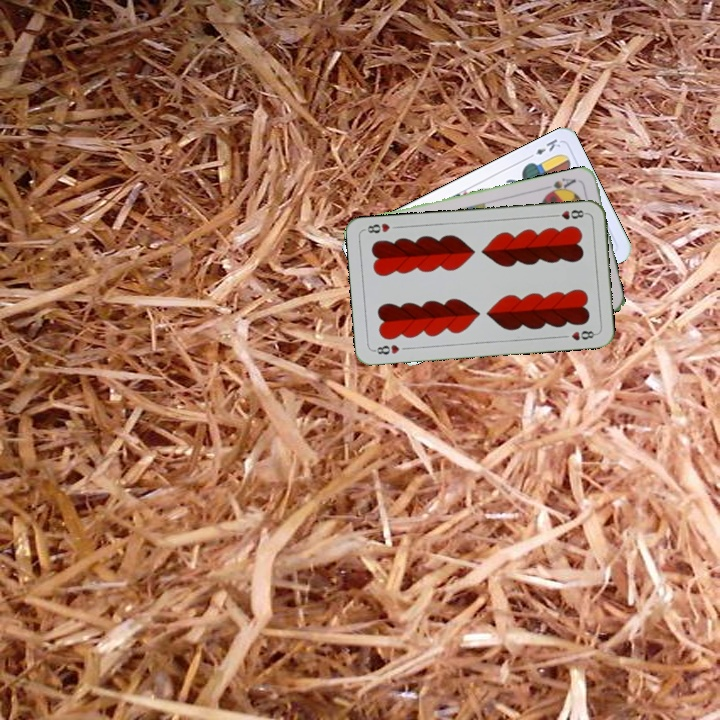EK: (524, 135, 563, 161)
H8: (549, 206, 589, 222), (370, 340, 402, 357)
SA: (541, 174, 578, 198)
